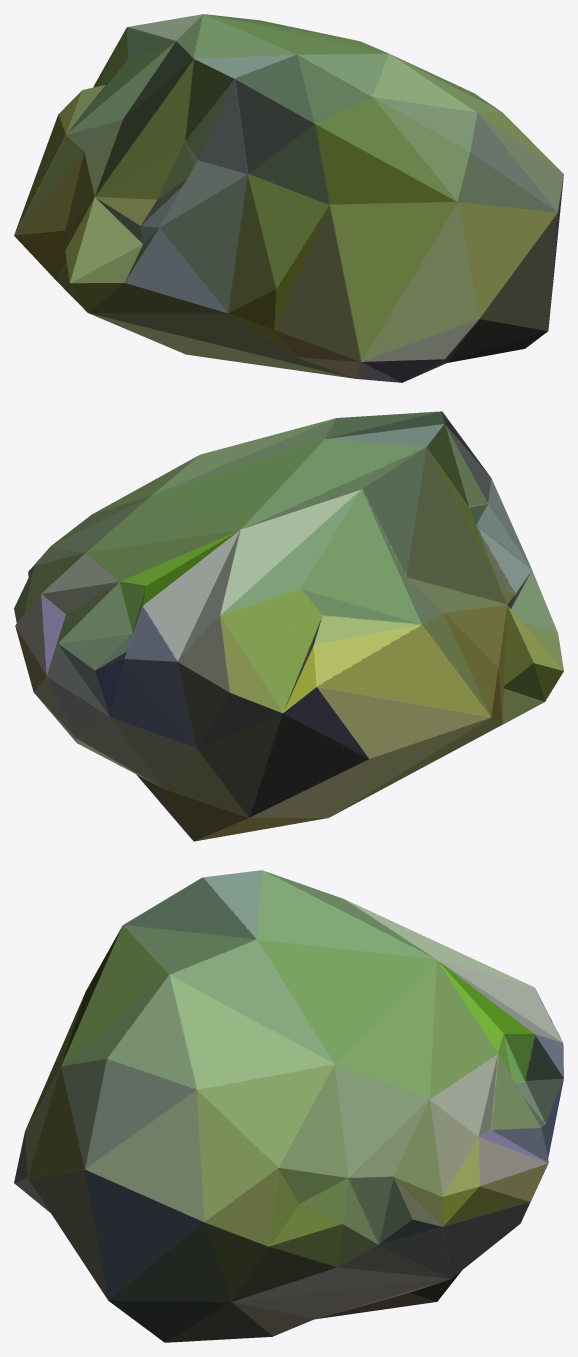
The model's file is rock.glb.
3 renders of one model, top to bottom at view 1: azimuth 30°, elevation 25°; view 2: azimuth 150°, elevation 25°; view 3: azimuth 270°, elevation 25°, orthographic. The views are drawn at different scales.
Size of the model in its own units: 1.2 by 0.8441 by 1.16.
Materials: 1 (1 with a texture image).
